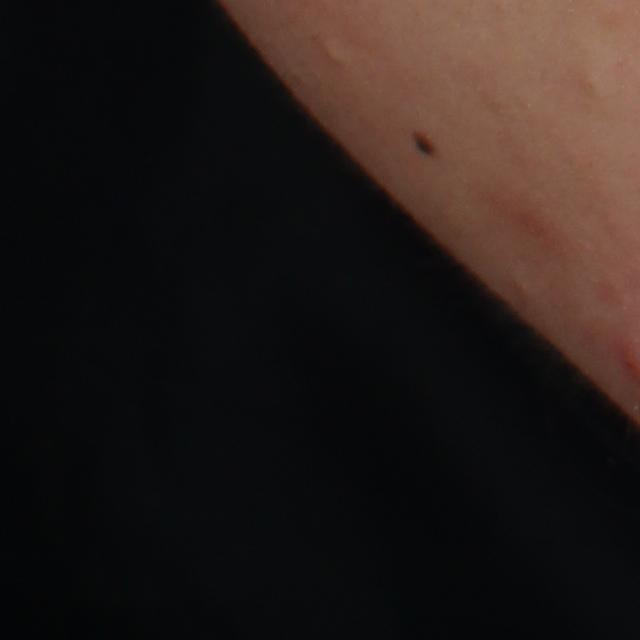comedo: (316, 34, 352, 70), (573, 71, 609, 100)
nevus: (407, 128, 440, 159)
